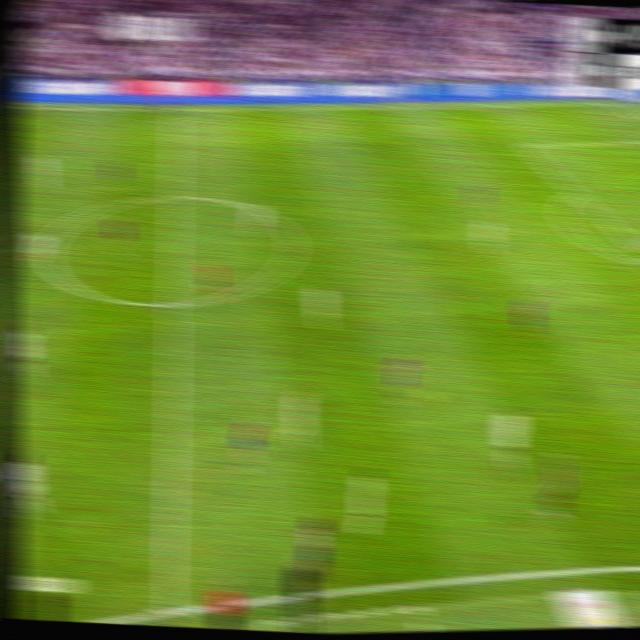bigarea_top_inner: (518, 138, 534, 152)
corner: (603, 96, 623, 107)
halfcircle_bottom: (159, 286, 186, 320)
halfcircle_top: (161, 182, 187, 210)
midline_bottom_intersection: (152, 586, 184, 626)
midline_top_intersection: (166, 102, 186, 117)
top_arc_area_intersection: (565, 183, 585, 199)
